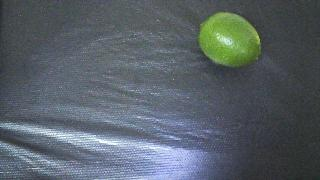LOCAL: (198, 12, 261, 67)
